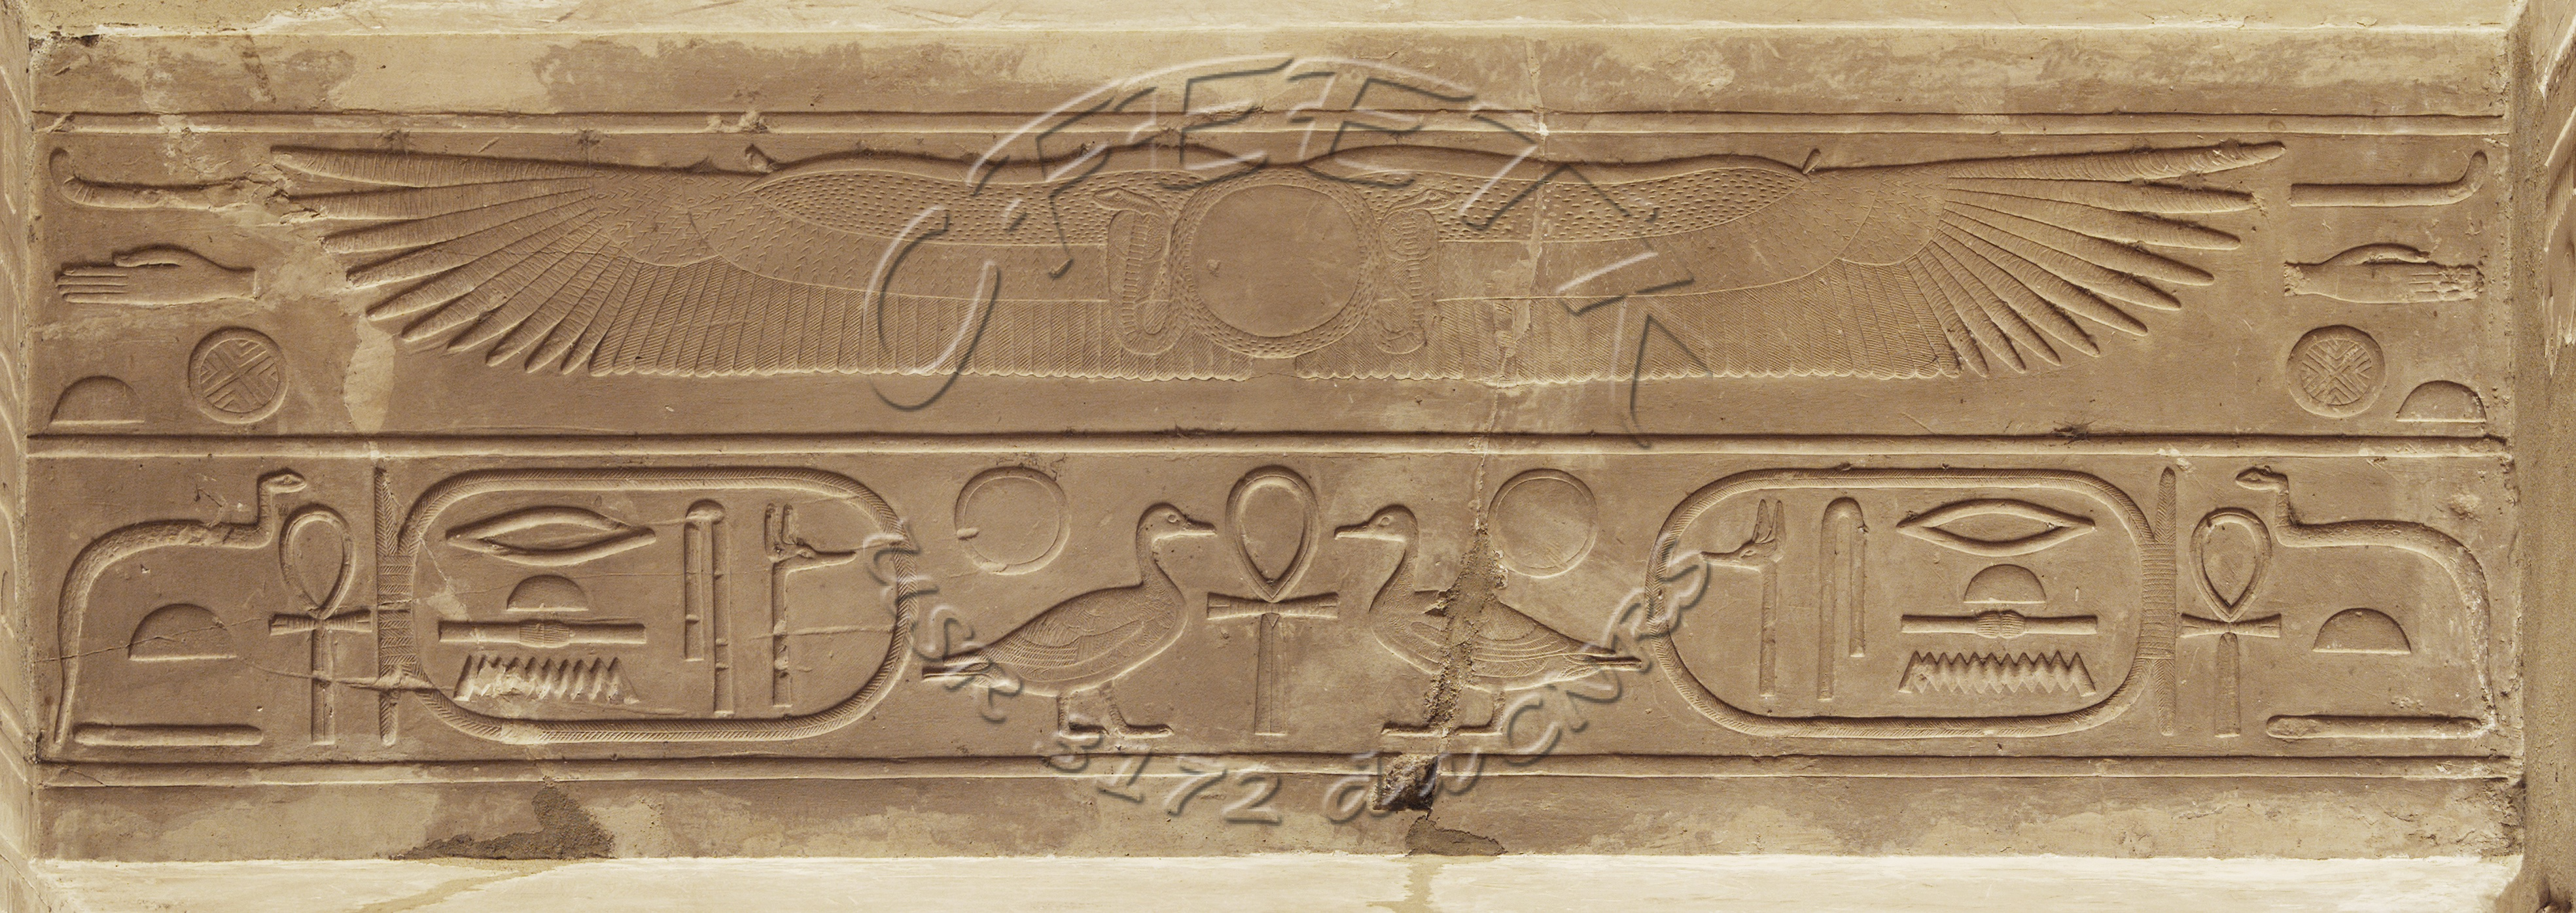D21: (425, 489, 669, 578), (1874, 489, 2118, 578)
I10: (23, 458, 322, 775), (2216, 442, 2515, 759)
N35: (434, 634, 665, 723), (1881, 627, 2113, 716)
